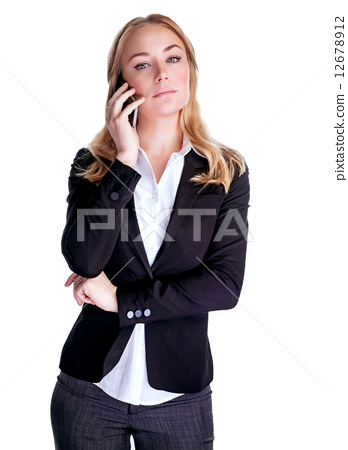phone: (103, 82, 147, 129)
talk: (107, 40, 185, 149)
